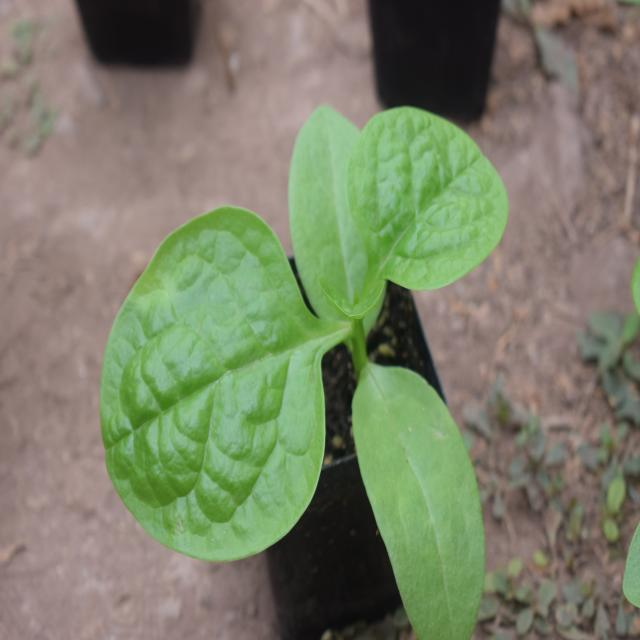Ceylon spinach: (104, 105, 500, 603)
